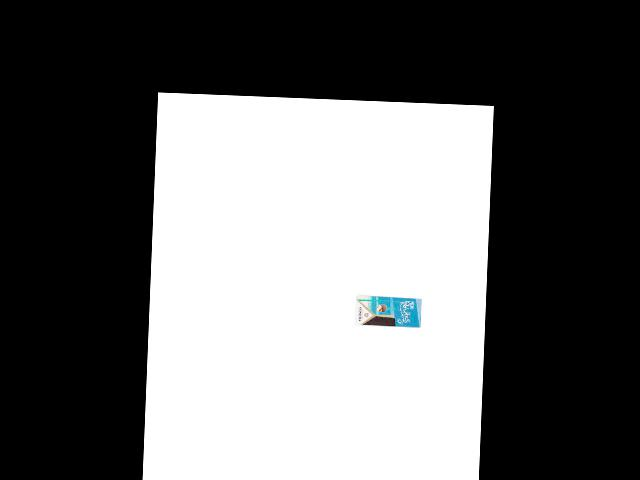chocolate: (352, 294, 423, 329)
